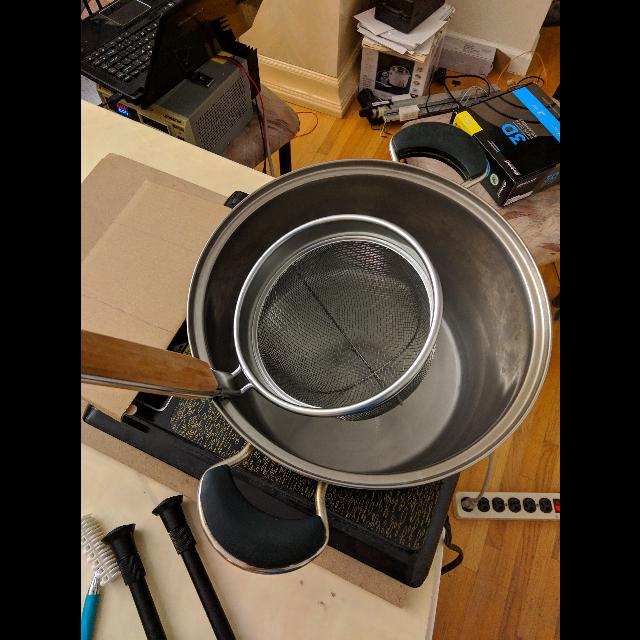Handle: (80, 320, 240, 410)
Strainer: (234, 208, 446, 426)
